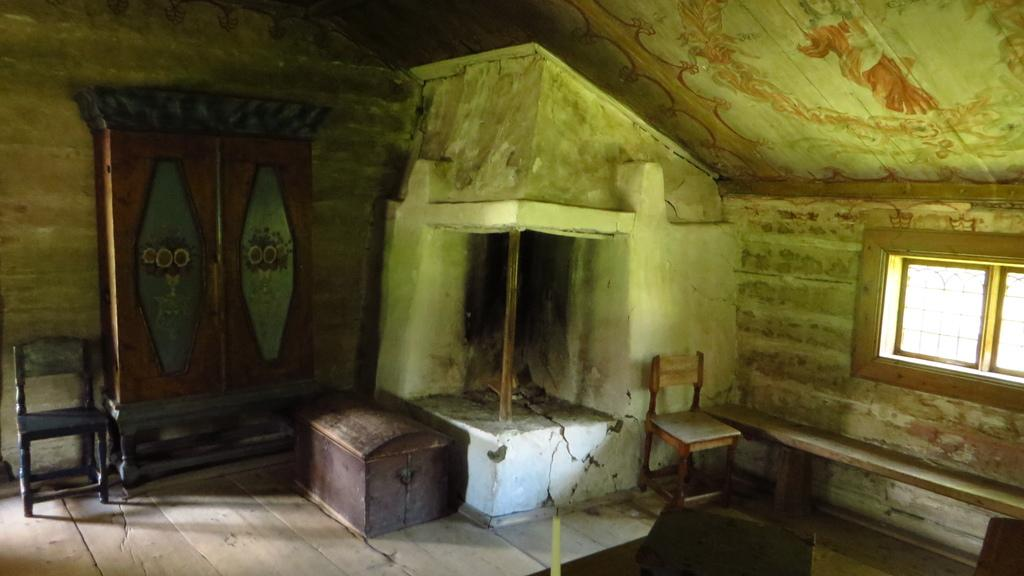Chair: (10, 324, 123, 511), (636, 346, 745, 515)
